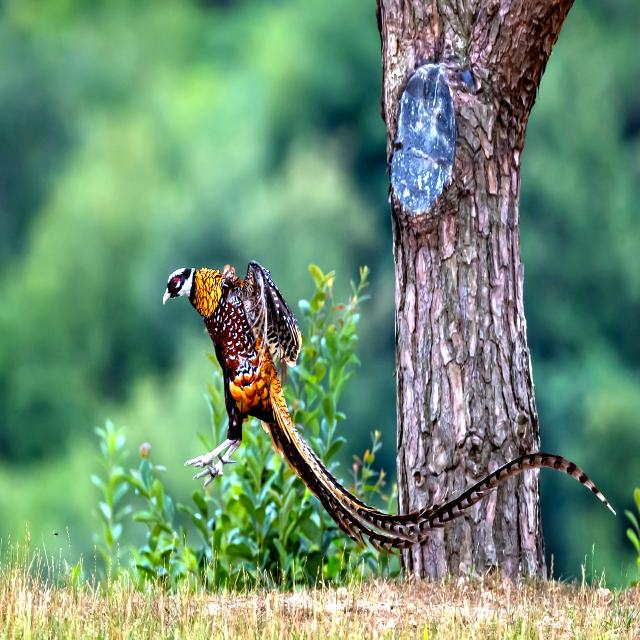Reeves-s Pheasant: (270, 423, 596, 549)
